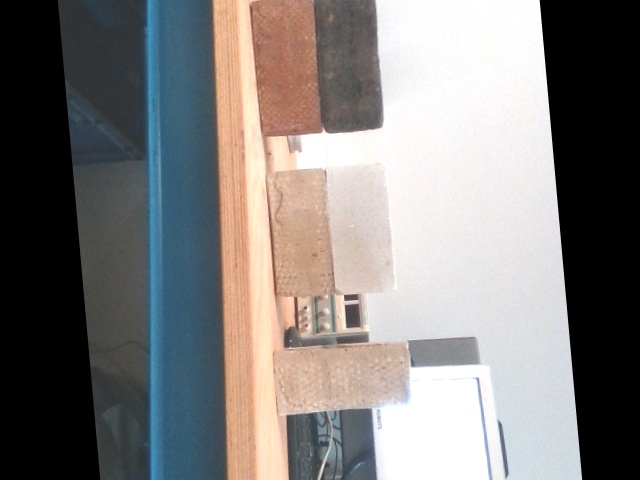brick: (273, 345, 410, 415), (250, 0, 320, 137), (323, 165, 395, 294), (313, 0, 383, 132), (268, 169, 331, 296)
